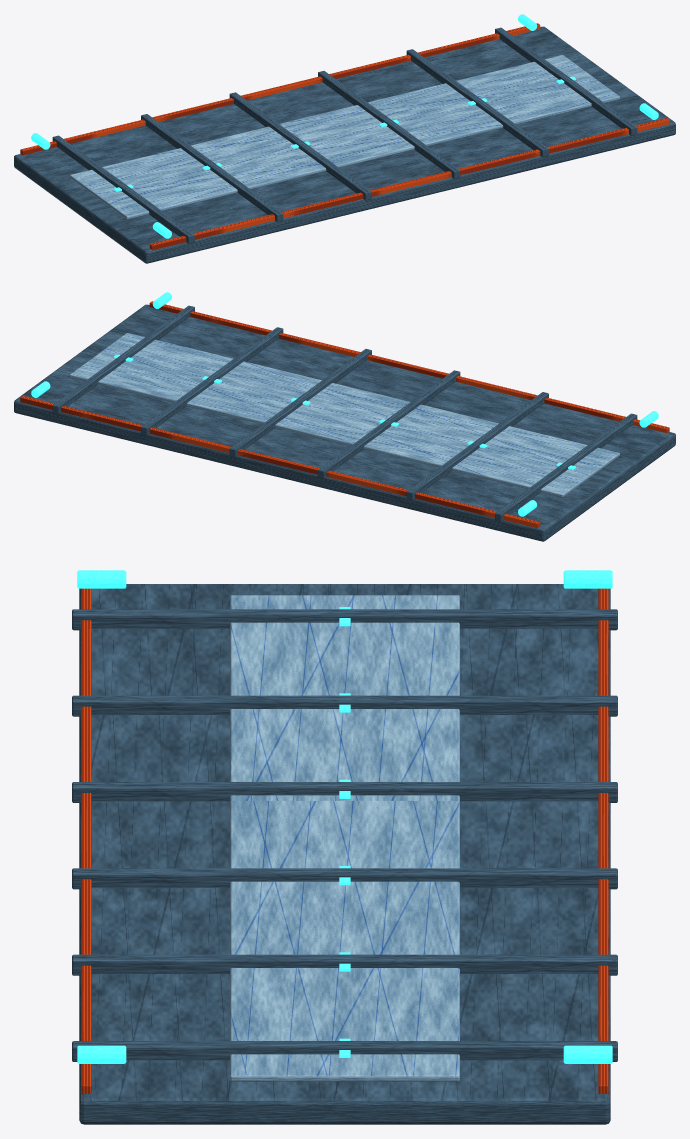
The model's file is transit_spine.glb.
The picture shows the model from 3 angles, top to bottom: view 1: azimuth 30°, elevation 25°; view 2: azimuth 150°, elevation 25°; view 3: azimuth 270°, elevation 25°; orthographic projection. The views are drawn at different scales.
Visible parts, largest first — view 1: TransitDeck, TransitIceInlay, TransitEdgeCurb_2.53, TransitEdgeCurb_-2.53, TransitCrossRib_5, TransitCrossRib_-3, TransitCrossRib_-5, TransitCrossRib_1, TransitCrossRib_-1, TransitCrossRib_3; view 2: TransitDeck, TransitIceInlay, TransitEdgeCurb_-2.53, TransitEdgeCurb_2.53, TransitCrossRib_5, TransitCrossRib_-3, TransitCrossRib_-5, TransitCrossRib_1, TransitCrossRib_-1, TransitCrossRib_3; view 3: TransitDeck, TransitIceInlay, TransitCrossRib_3, TransitCrossRib_-3, TransitCrossRib_1, TransitCrossRib_-5, TransitCrossRib_-1, TransitCrossRib_5, TransitEdgeCurb_-2.53, TransitEdgeCurb_2.53, TransitBeacon_-5.5-2.38, TransitBeacon_-5.52.38 (+2 smaller).
Boxes of the visible parts, bbox=[...] form: TransitDeck: bbox=[14, 26, 675, 263]; TransitIceInlay: bbox=[70, 55, 619, 219]; TransitEdgeCurb_2.53: bbox=[149, 118, 669, 250]; TransitEdgeCurb_-2.53: bbox=[20, 23, 540, 155]; TransitCrossRib_5: bbox=[495, 27, 637, 135]; TransitCrossRib_-3: bbox=[141, 114, 283, 222]; TransitCrossRib_-5: bbox=[52, 135, 194, 243]; TransitCrossRib_1: bbox=[318, 71, 460, 179]; TransitCrossRib_-1: bbox=[229, 92, 371, 200]; TransitCrossRib_3: bbox=[406, 49, 548, 157]; TransitDeck: bbox=[14, 304, 675, 541]; TransitIceInlay: bbox=[70, 333, 619, 497]; TransitEdgeCurb_-2.53: bbox=[20, 396, 540, 528]; TransitEdgeCurb_2.53: bbox=[149, 301, 669, 433]; TransitCrossRib_5: bbox=[52, 305, 194, 413]; TransitCrossRib_-3: bbox=[406, 392, 548, 500]; TransitCrossRib_-5: bbox=[495, 413, 637, 521]; TransitCrossRib_1: bbox=[229, 349, 371, 457]; TransitCrossRib_-1: bbox=[318, 370, 460, 478]; TransitCrossRib_3: bbox=[141, 327, 283, 435]; TransitDeck: bbox=[79, 584, 610, 1124]; TransitIceInlay: bbox=[230, 595, 459, 1081]; TransitCrossRib_3: bbox=[72, 954, 617, 975]; TransitCrossRib_-3: bbox=[72, 695, 617, 716]; TransitCrossRib_1: bbox=[72, 868, 617, 889]; TransitCrossRib_-5: bbox=[72, 609, 617, 630]; TransitCrossRib_-1: bbox=[72, 782, 617, 802]; TransitCrossRib_5: bbox=[72, 1041, 617, 1061]; TransitEdgeCurb_-2.53: bbox=[598, 588, 608, 1094]; TransitEdgeCurb_2.53: bbox=[81, 588, 91, 1094]; TransitBeacon_-5.5-2.38: bbox=[563, 570, 612, 588]; TransitBeacon_-5.52.38: bbox=[77, 570, 126, 588].
Size of the model in its own units: 12 by 1.48 by 5.34.
Materials: 5 (5 with a texture image).
